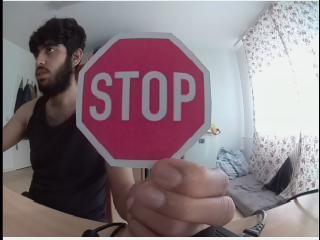stop: (75, 34, 208, 166)
